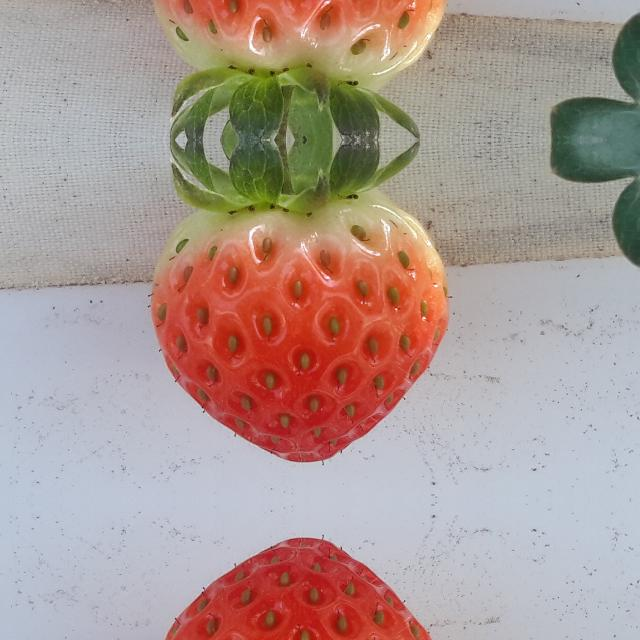Health_100: (152, 190, 448, 462), (152, 538, 448, 640), (152, 0, 448, 89)
